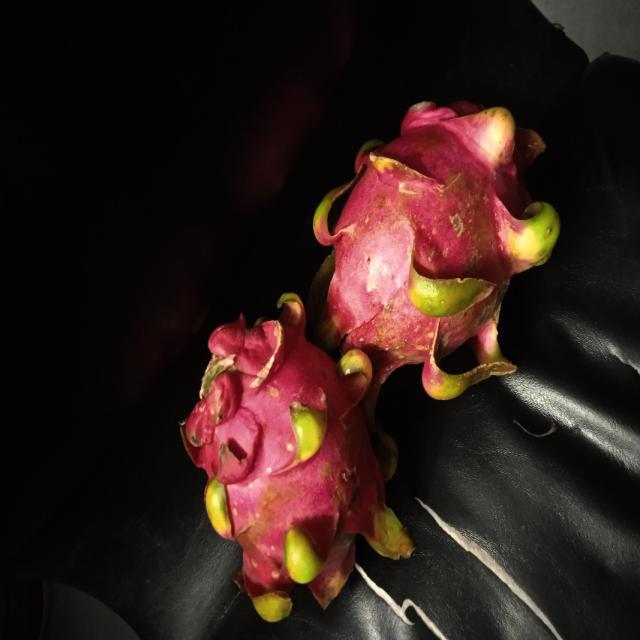do: (176, 292, 416, 624), (310, 92, 562, 396)
